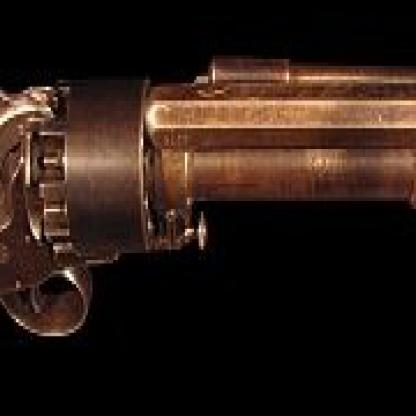gun: (0, 24, 414, 413)
